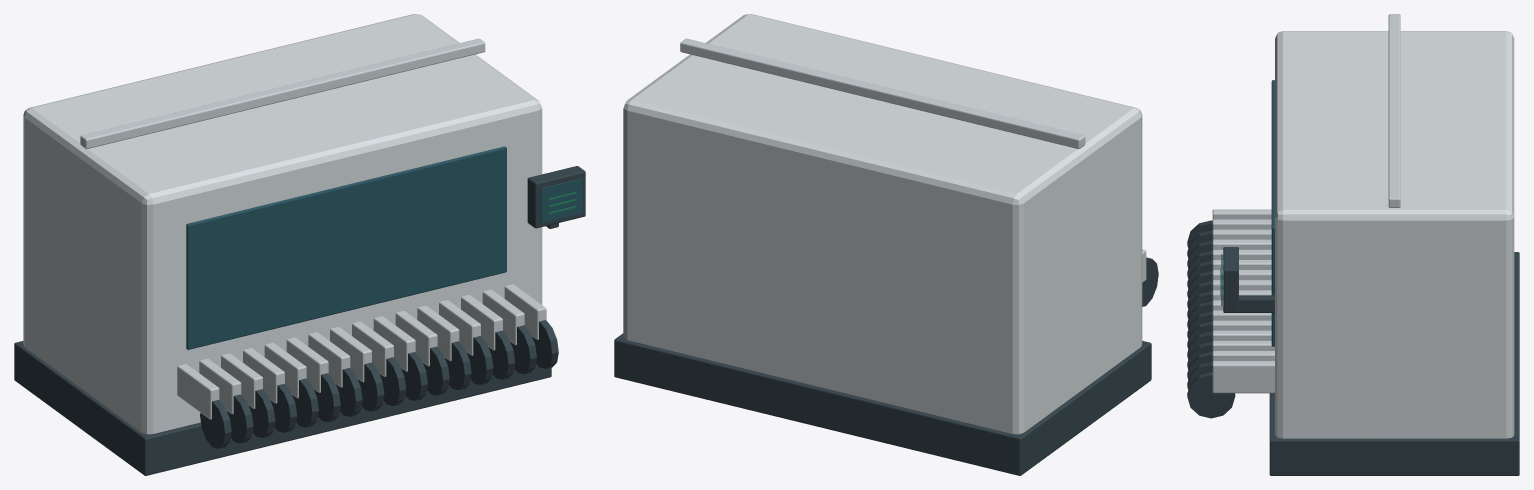
Rendered from station-4.glb.
3 renders of one model, left to right at view 1: azimuth 30°, elevation 25°; view 2: azimuth 150°, elevation 25°; view 3: azimuth 270°, elevation 25°, orthographic. The views are drawn at different scales.
Parts seen in each view (by area): view 1: Machine chassis; view 2: Machine chassis; view 3: Machine chassis.
Boxes of the visible parts, box(x1,y1,x2,y2) form: Machine chassis: box(14, 14, 585, 475); Machine chassis: box(614, 14, 1158, 475); Machine chassis: box(1187, 14, 1519, 475).
Size of the model in its own units: 3.44 by 2.32 by 2.5.
